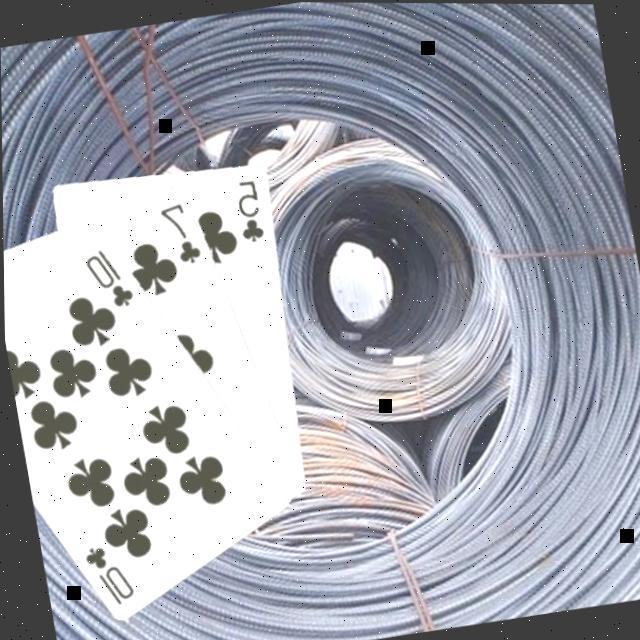10C: (78, 534, 139, 609), (78, 238, 139, 312)
5C: (229, 173, 269, 244)
7C: (155, 194, 206, 267)
